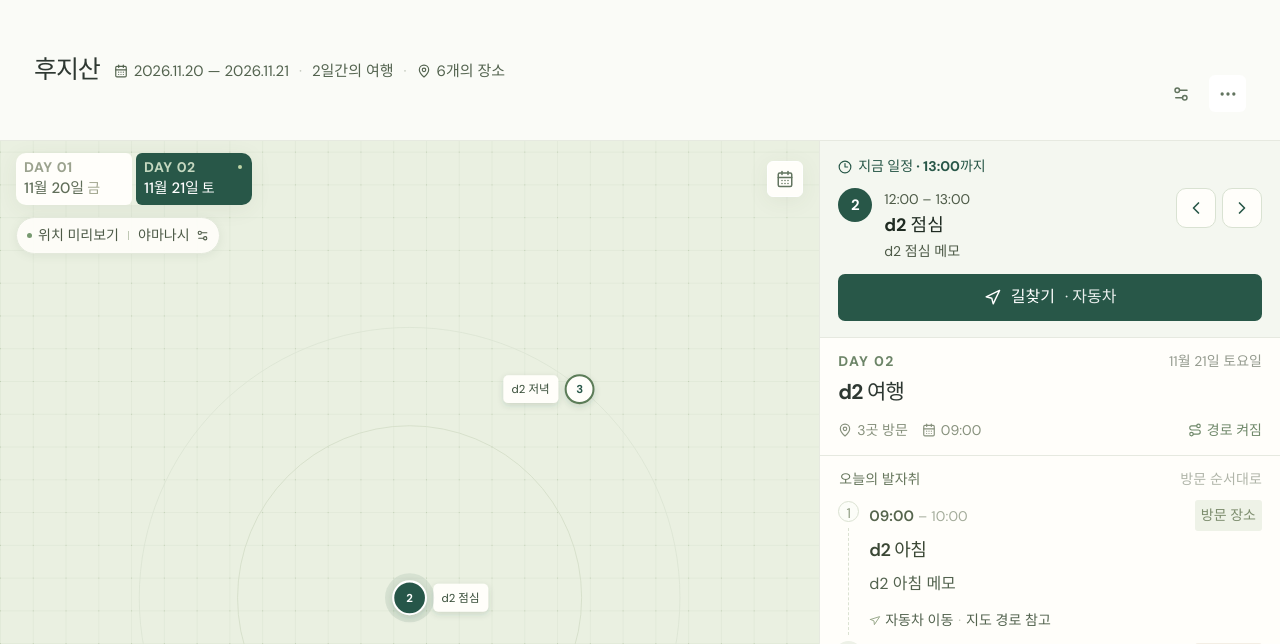
opens today's day at the stop happening now and offers directions and stepping
Expected: the tab "DAY 02" is shown, [136,153,252,205]
Expected: the text "지금 일정 · 13:00까지" is shown, [858,155,986,178]
Click the button named "다음 장소": (1242, 208) [1222,188,1262,228]
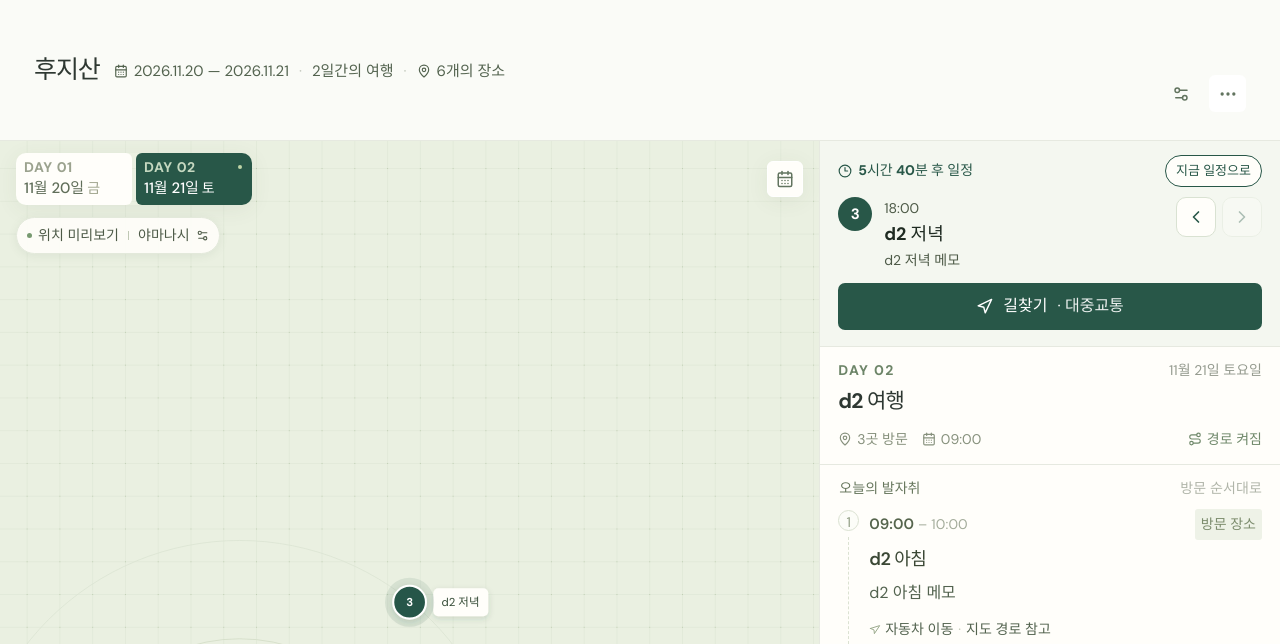
Expected: the text "5시간 40분 후 일정" is shown, [858,160,973,183]
Expected: the link "길찾기 · 대중교통" is shown, [838,283,1262,330]
Expected: the button named "다음 장소" is disabled, [1222,197,1262,237]
Click the button named "이전 장소": (1196, 217) [1176,197,1216,237]
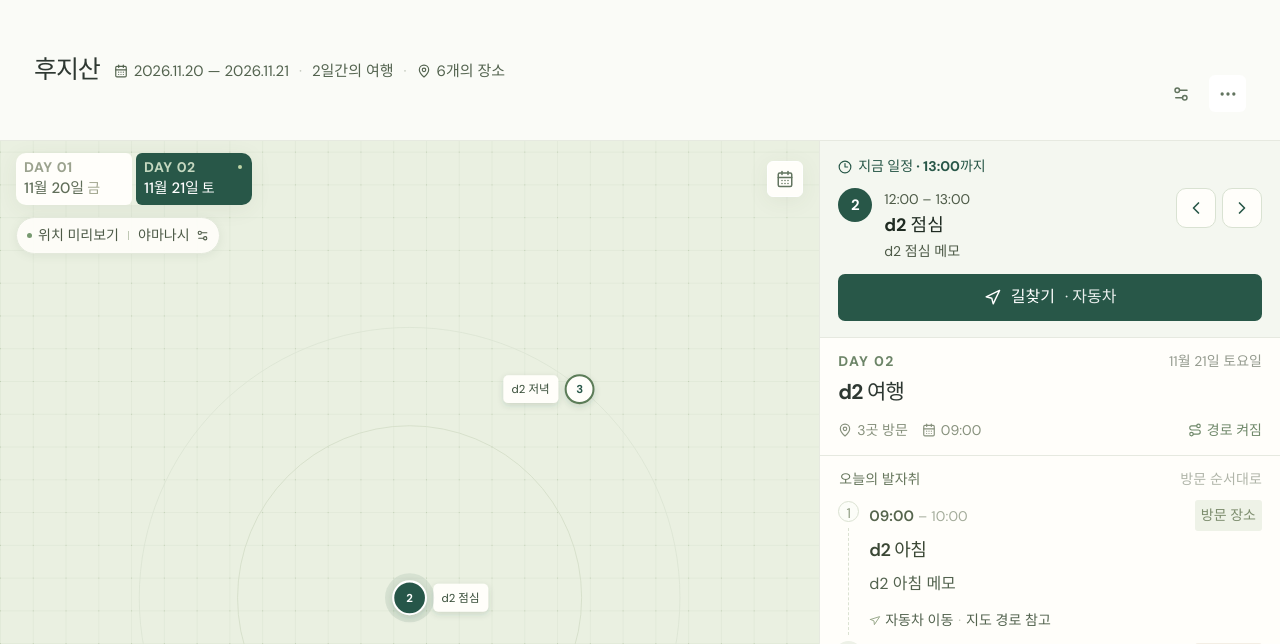
Click the button named "이전 장소": (1196, 208) [1176,188,1216,228]
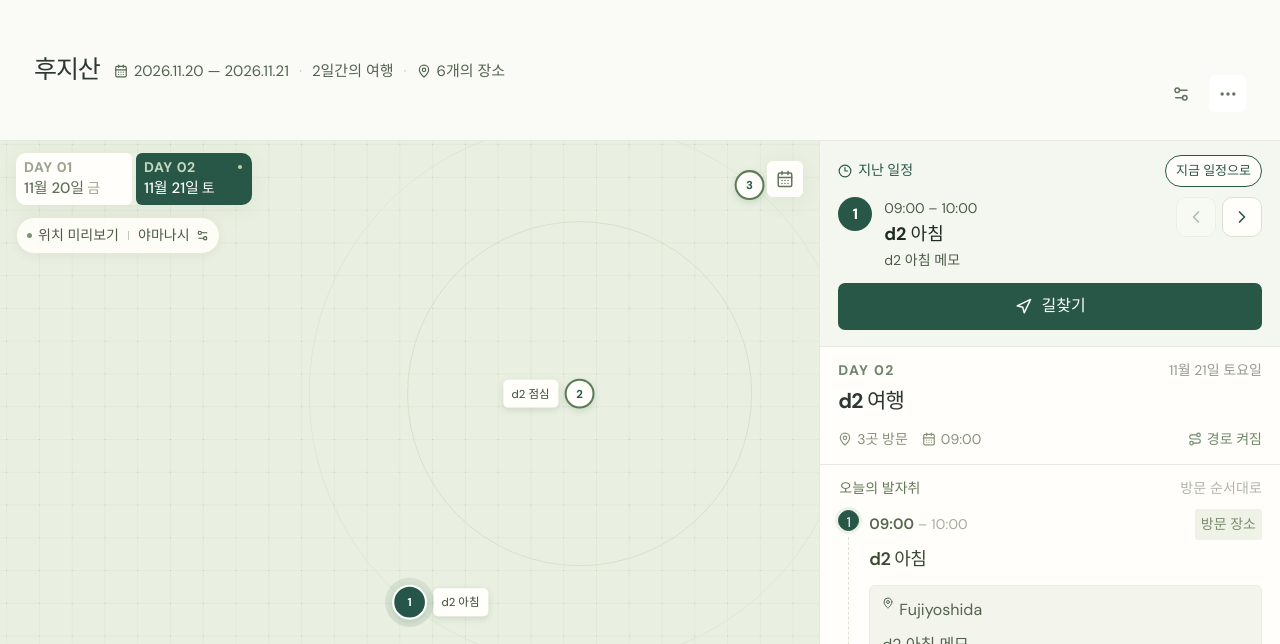
Expected: the text "지난 일정" is shown, [858,160,913,183]
Click the tab "DAY 01": (74, 179) [16,153,132,205]
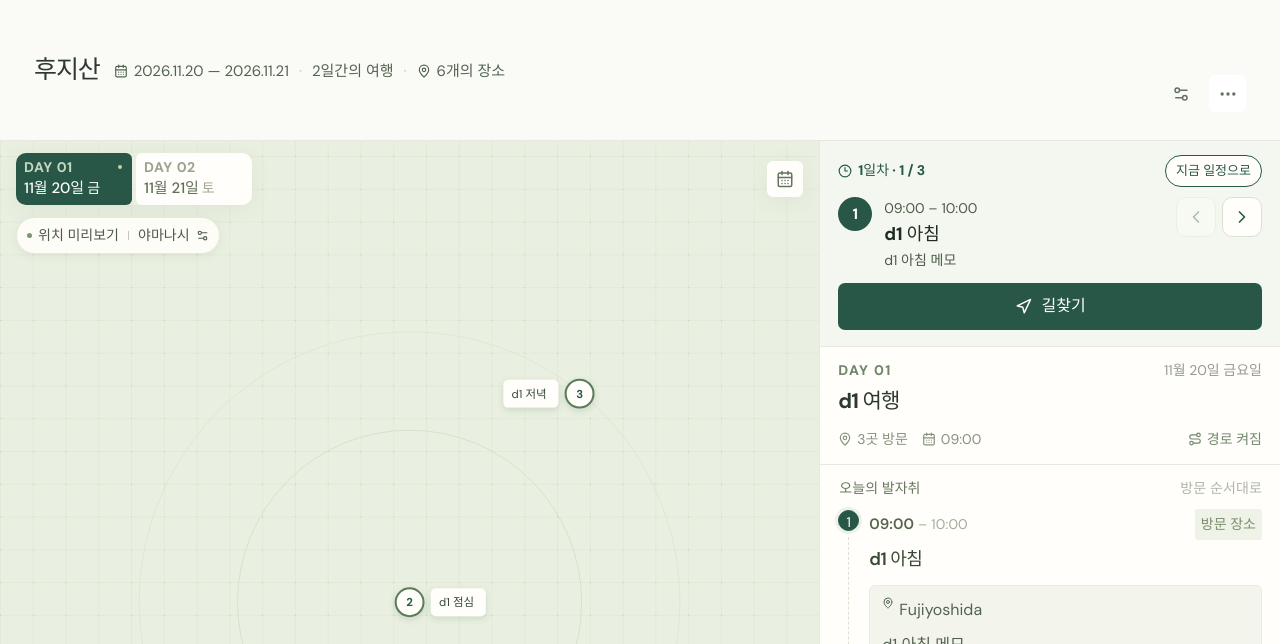
Click the button "지금 일정으로": (1214, 171) [1165,155,1262,187]
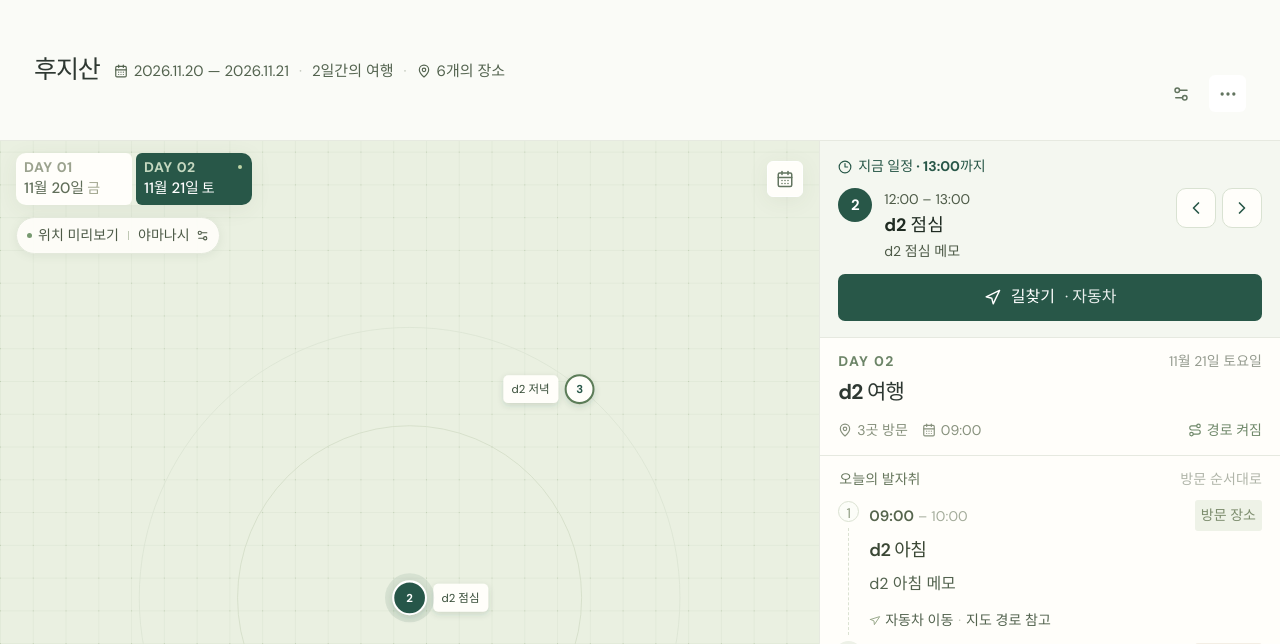
Expected: the tab "DAY 02" is shown, [136,153,252,205]
Expected: the text "d2 점심" is shown, [884,213,944,237]
